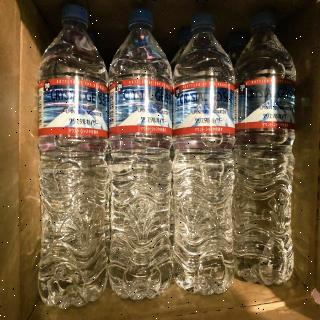Plastic-bottle: (33, 1, 111, 311), (105, 5, 178, 307), (171, 10, 239, 303), (235, 8, 299, 291)
